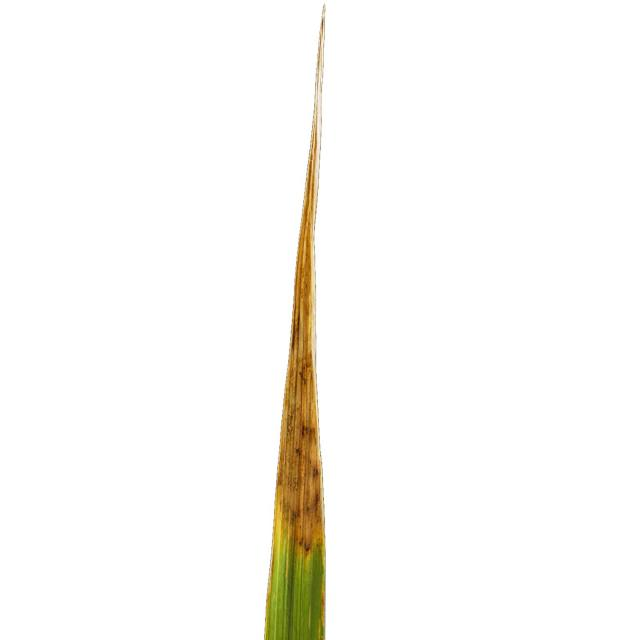Leaf scald: (185, 3, 484, 640)
